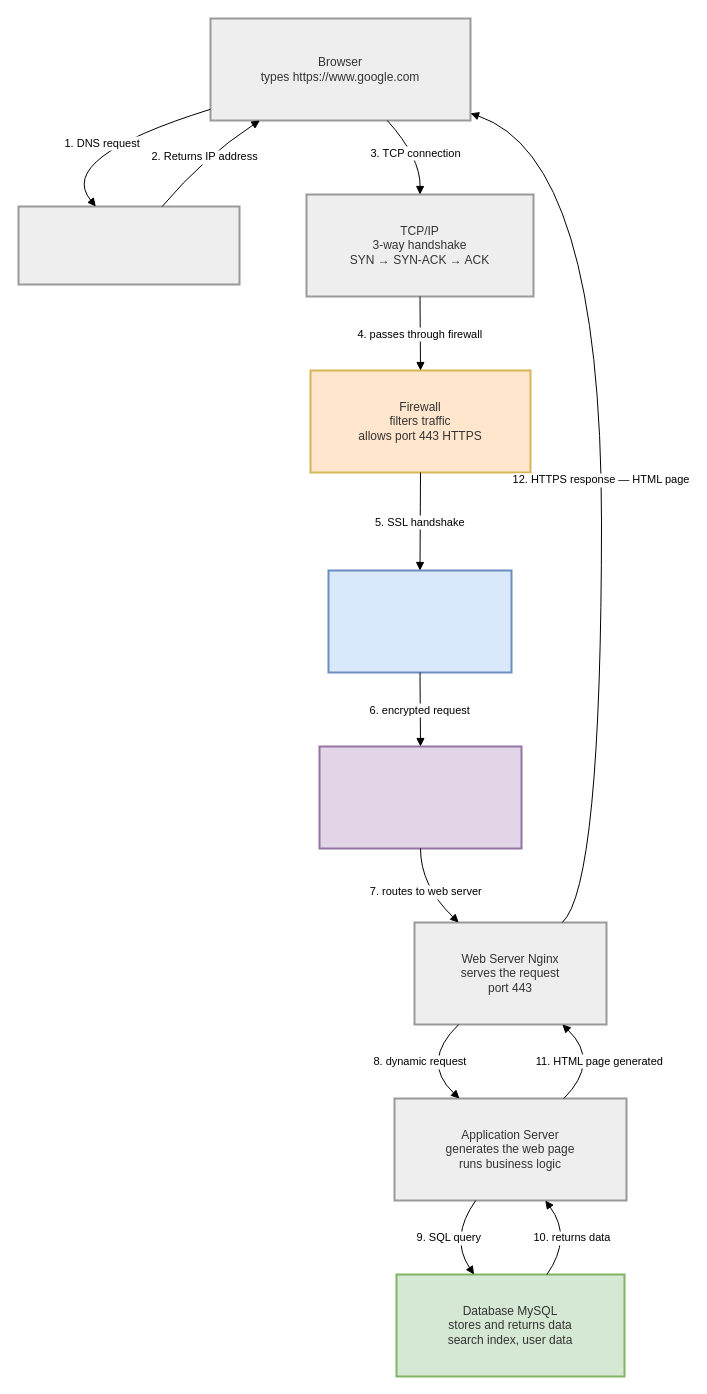
This 707x1394 diagram has some shape labels left out. The centre of each missing label's shape, as x and y in pixels:
"DNS Server www.google.com → IP" belongs at pixel 128 245.
"HTTPS / SSL SSL handshake traffic encrypted" belongs at pixel 419 621.
"Load Balancer distributes requests Round Robin" belongs at pixel 420 797.
